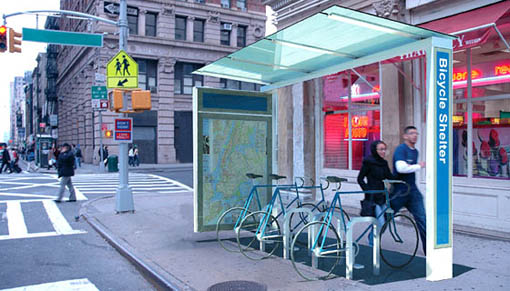bike: (288, 173, 427, 285)
